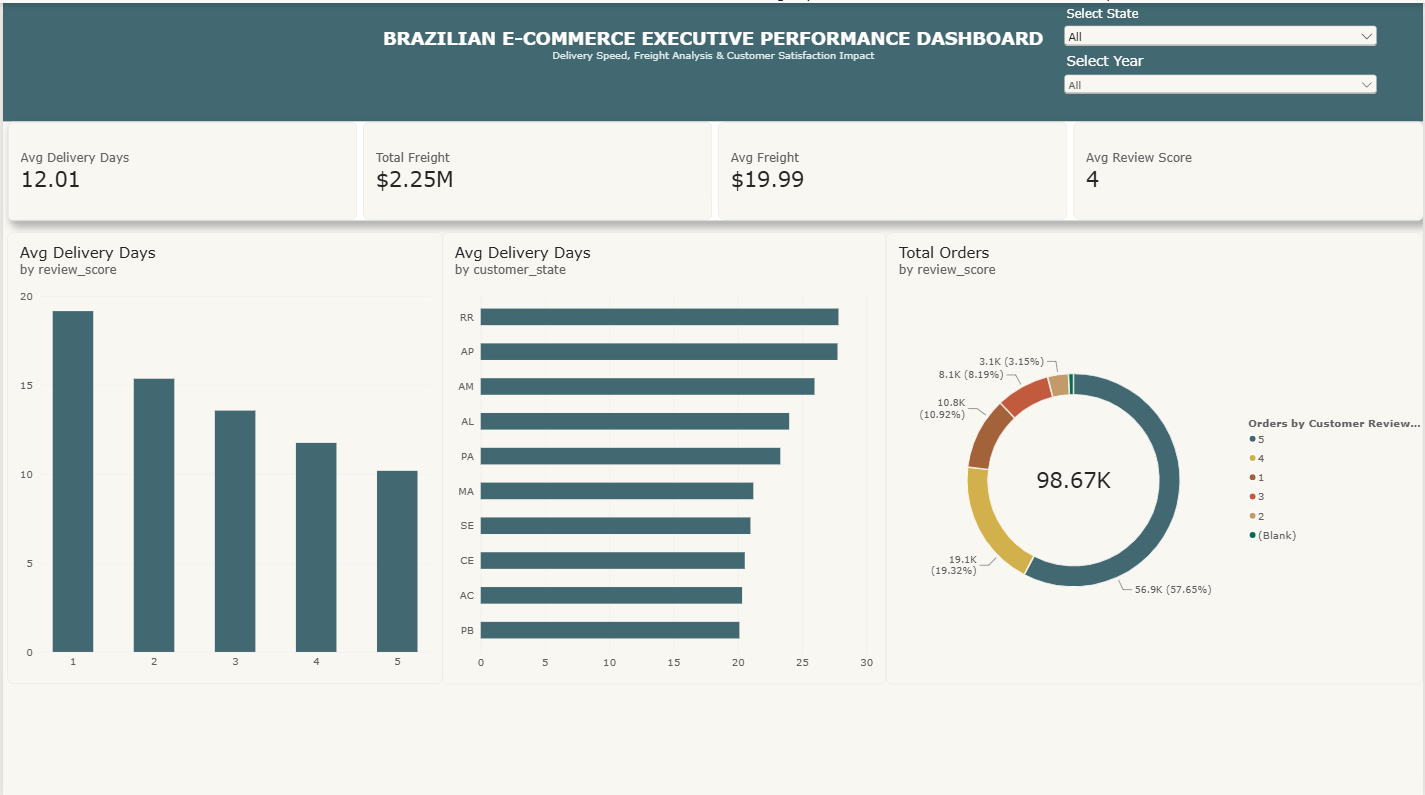

The dashboard page shown, as its layout file describes it:
{"tool":"powerbi","page":{"name":"Operations & Logistics","canvas":[1920,1080],"ordinal":1},"visuals":[{"type":"shape","box":[0,0,1920,160],"z":1000},{"type":"slicer","fields":{"Values":["ecommerce_analysis_ready.purchase_year"]},"box":[1430,66,432,106],"z":2000},{"type":"slicer","fields":{"Values":["ecommerce_analysis_ready.customer_state"]},"box":[1430,4,432,62],"z":3000},{"type":"textbox","box":[0,32,1920,104],"z":4000},{"type":"textbox","box":[0,10,1920,44],"z":5000},{"type":"cardVisual","fields":{"Data":["_Key Measures.Avg Delivery Days","_Key Measures.Total Freight","_Key Measures.Avg Freight","_Key Measures.Avg Review Score"]},"box":[6,160,1914,134],"z":5001},{"type":"columnChart","fields":{"Y":["_Key Measures.Avg Delivery Days"],"Category":["ecommerce_analysis_ready.review_score"]},"box":[6.1,310.2,588,610.3],"z":5002},{"type":"clusteredBarChart","fields":{"Category":["ecommerce_analysis_ready.customer_state"],"Y":["_Key Measures.Avg Delivery Days"]},"box":[594.7,310.2,599.3,611],"z":5003},{"type":"donutChart","fields":{"Y":["_Key Measures.Total Orders"],"Category":["ecommerce_analysis_ready.review_score"]},"box":[1194,310.2,725.3,611],"z":5004}]}

Visuals, with their boxes in screenshot pixels (x1, y1, x2, y2), scaled from the page's 1920x1080 canvas onto the 1425x795 screenshot:
shape: crop(0, 0, 1424, 118)
slicer - ecommerce_analysis_ready.purchase_year: crop(1061, 49, 1382, 127)
slicer - ecommerce_analysis_ready.customer_state: crop(1061, 3, 1382, 49)
textbox: crop(0, 24, 1424, 100)
textbox: crop(0, 7, 1424, 40)
cardVisual - _Key Measures.Avg Delivery Days x _Key Measures.Total Freight: crop(4, 118, 1424, 216)
columnChart - _Key Measures.Avg Delivery Days x ecommerce_analysis_ready.review_score: crop(5, 228, 441, 678)
clusteredBarChart - ecommerce_analysis_ready.customer_state x _Key Measures.Avg Delivery Days: crop(441, 228, 886, 678)
donutChart - _Key Measures.Total Orders x ecommerce_analysis_ready.review_score: crop(886, 228, 1424, 678)
